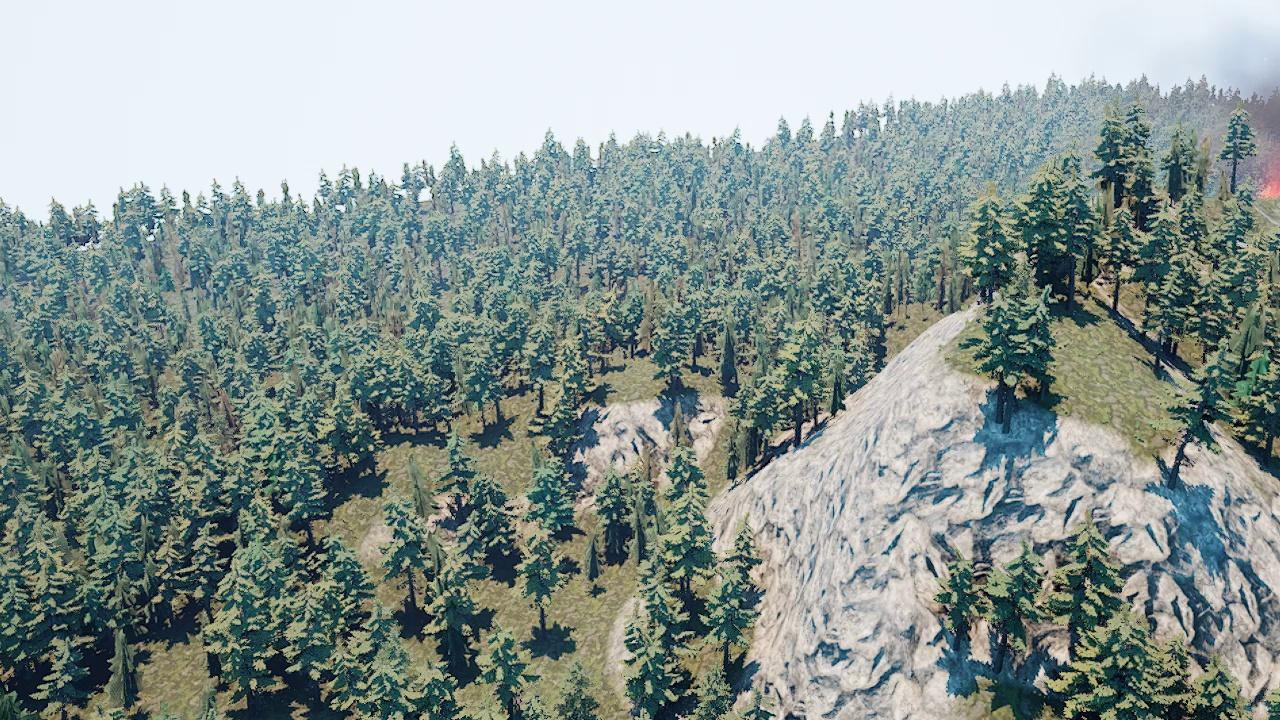smoke: (1250, 59, 1280, 194)
